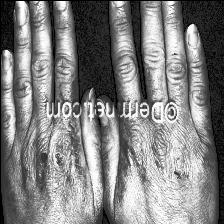Toxin: (118, 140, 192, 184), (30, 139, 76, 170)
